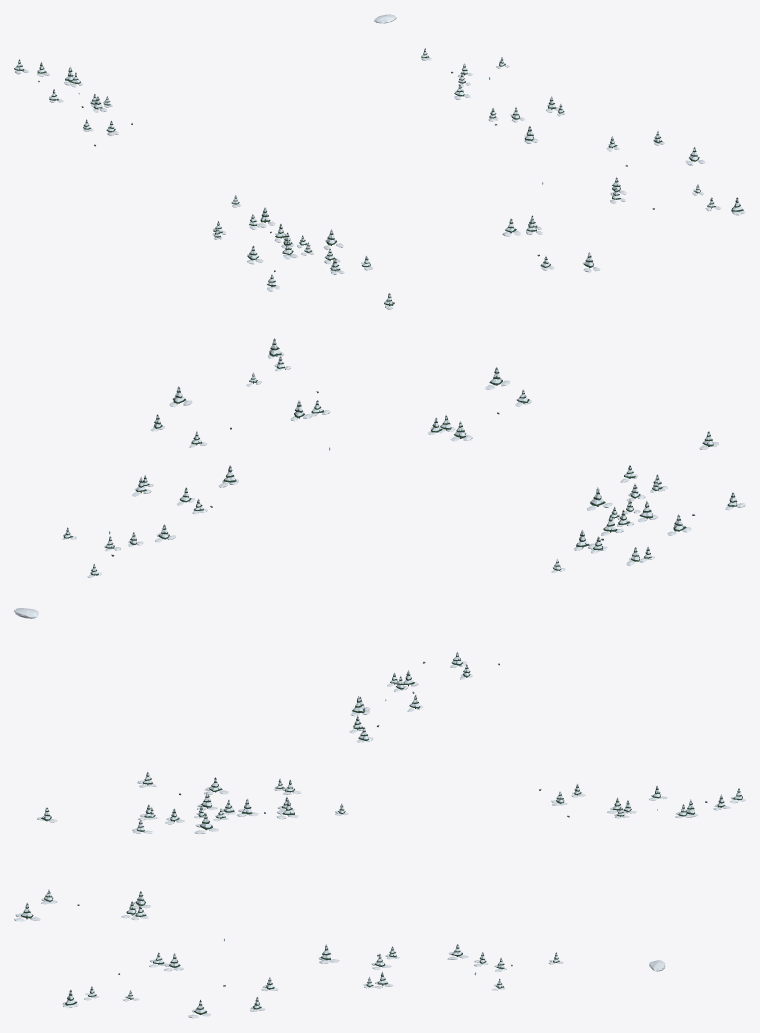
File: DepotGrove_-2_-2.fbx
3 views of the same model, one above another, from view 1: azimuth 30°, elevation 25°; view 2: azimuth 150°, elevation 25°; view 3: azimuth 270°, elevation 25° (orthographic). The views are drawn at different scales.
Visible parts, largest first — view 1: DepotGrove_-2_-2; view 2: DepotGrove_-2_-2; view 3: DepotGrove_-2_-2.
Boxes of the visible parts, x1,y1,x2,y2 form: DepotGrove_-2_-2: (14,14,745,309); DepotGrove_-2_-2: (14,338,745,742); DepotGrove_-2_-2: (14,771,745,1018).
Bounding box in the file's own units: 27482 × 1097 × 36162.
